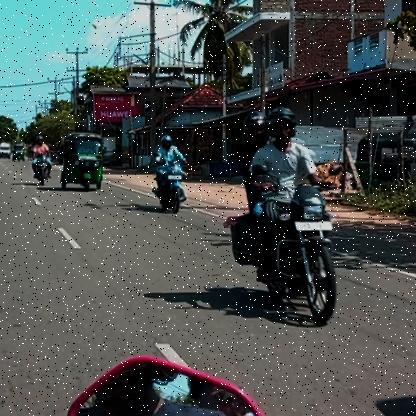motorcycle: (252, 184, 350, 329), (149, 158, 192, 218)
